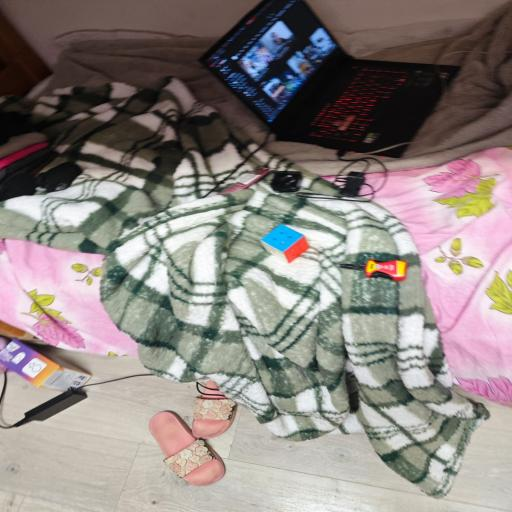Hand Cream: (224, 165, 268, 194)
Rubiks Cube: (260, 222, 307, 263)
Super Glue: (339, 256, 408, 282)
